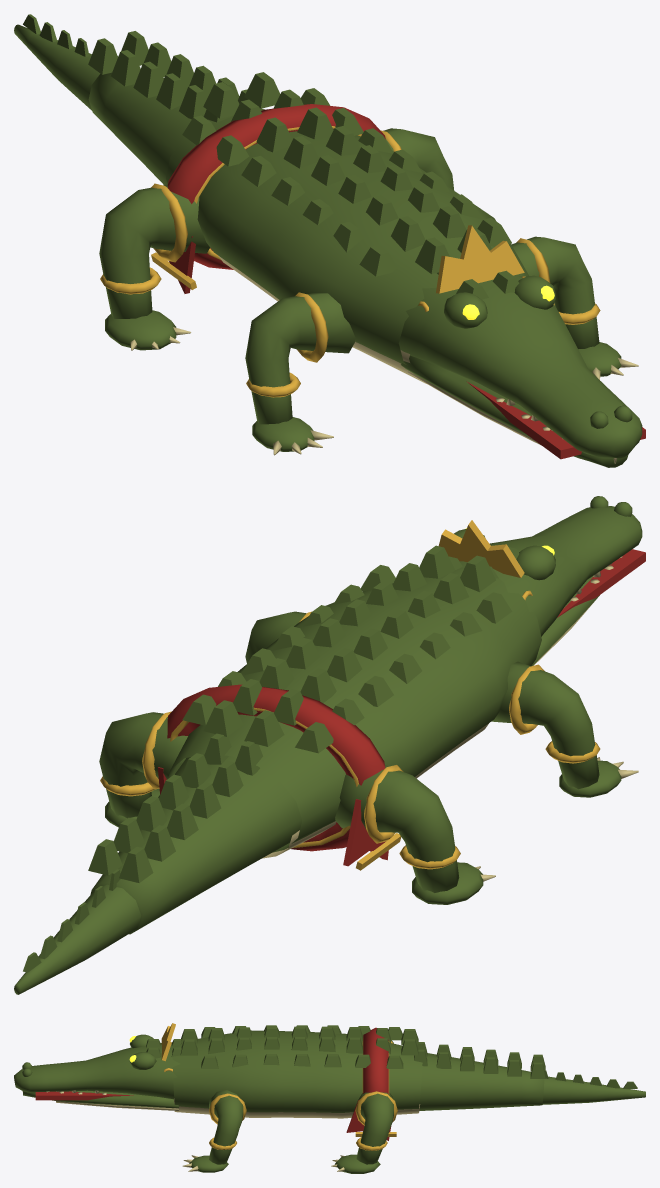
File: baya.glb
3 views of the same model, one above another, from view 1: azimuth 30°, elevation 25°; view 2: azimuth 150°, elevation 25°; view 3: azimuth 270°, elevation 25° (orthographic). The views are drawn at different scales.
Visible parts, largest first — view 1: body_mesh, head_mesh, tail_mesh, leg_r_mesh, arm_r_mesh, arm_l_mesh, tail_tip_mesh, jaw_mesh, leg_l_mesh; view 2: body_mesh, tail_mesh, head_mesh, leg_r_mesh, arm_r_mesh, leg_l_mesh, tail_tip_mesh, arm_l_mesh, jaw_mesh; view 3: body_mesh, head_mesh, tail_mesh, leg_l_mesh, arm_l_mesh, tail_tip_mesh, jaw_mesh.
Boxes of the visible parts, x1=… form: body_mesh: x1=151, y1=72, x2=528, y2=383; head_mesh: x1=398, y1=225, x2=645, y2=463; tail_mesh: x1=88, y1=31, x2=262, y2=185; leg_r_mesh: x1=99, y1=183, x2=209, y2=350; arm_r_mesh: x1=245, y1=292, x2=355, y2=455; arm_l_mesh: x1=511, y1=236, x2=638, y2=379; tail_tip_mesh: x1=14, y1=14, x2=118, y2=110; jaw_mesh: x1=401, y1=355, x2=628, y2=467; leg_l_mesh: x1=380, y1=128, x2=454, y2=190; body_mesh: x1=158, y1=545, x2=541, y2=870; tail_mesh: x1=88, y1=733, x2=301, y2=934; head_mesh: x1=438, y1=496, x2=645, y2=636; leg_r_mesh: x1=335, y1=765, x2=495, y2=904; arm_r_mesh: x1=491, y1=661, x2=638, y2=797; leg_l_mesh: x1=99, y1=711, x2=187, y2=827; tail_tip_mesh: x1=14, y1=869, x2=141, y2=994; arm_l_mesh: x1=245, y1=611, x2=311, y2=663; jaw_mesh: x1=531, y1=563, x2=611, y2=666; body_mesh: x1=172, y1=1025, x2=422, y2=1140; head_mesh: x1=14, y1=1023, x2=181, y2=1100; tail_mesh: x1=414, y1=1042, x2=545, y2=1110; leg_l_mesh: x1=331, y1=1091, x2=397, y2=1173; arm_l_mesh: x1=182, y1=1090, x2=246, y2=1172; tail_tip_mesh: x1=542, y1=1070, x2=645, y2=1104; jaw_mesh: x1=23, y1=1090, x2=178, y2=1110.
Size of the model in its own units: 2.14 by 1.17 by 6.16.
